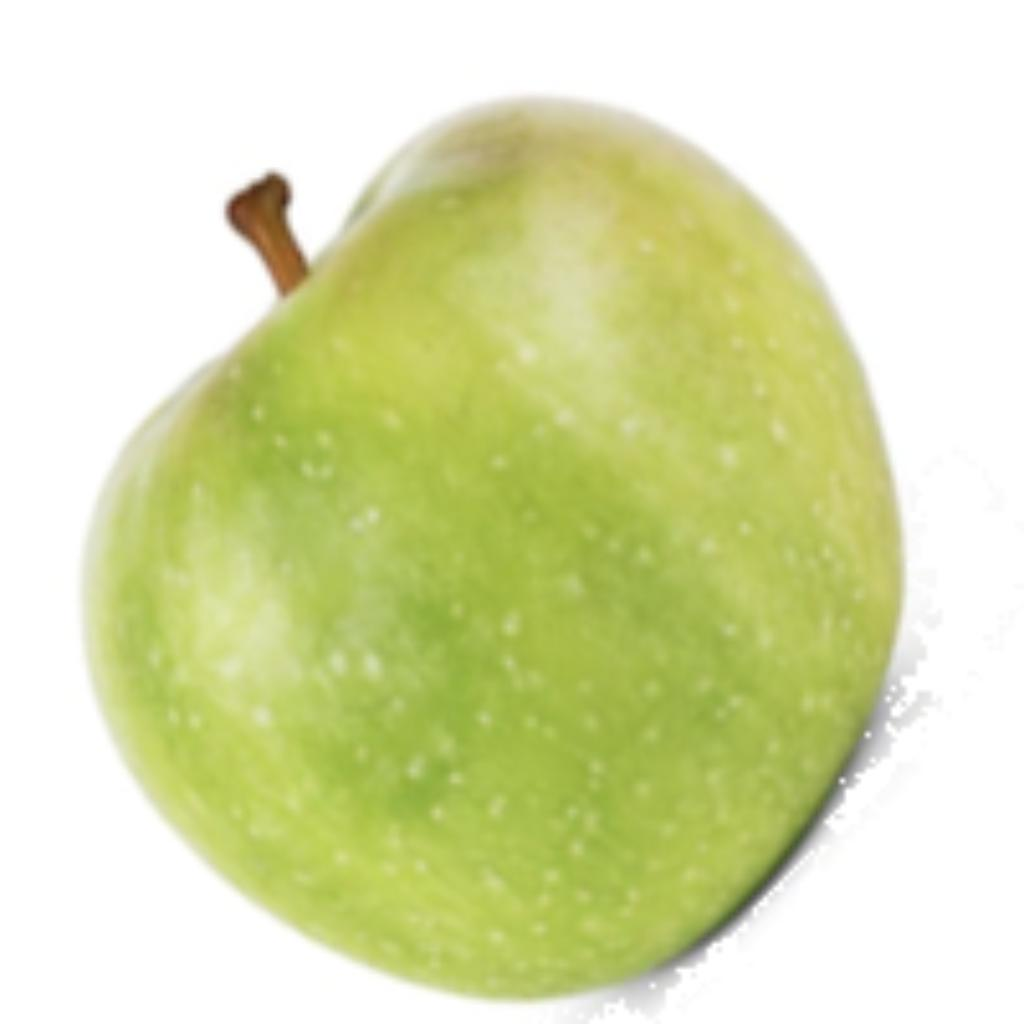apple: (72, 87, 942, 1019)
